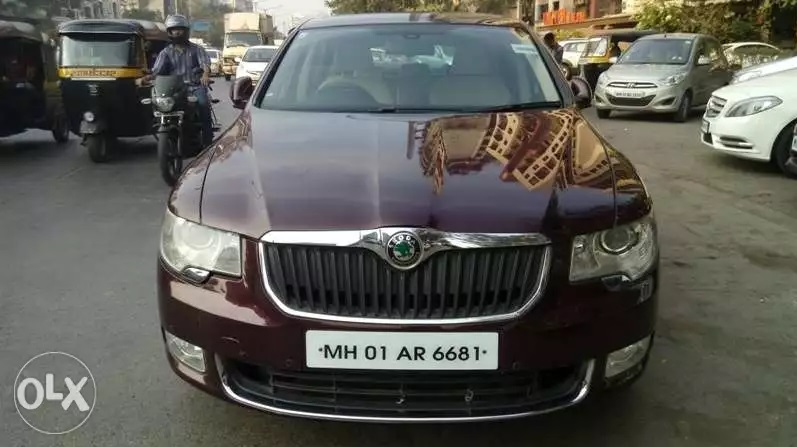licenseplate: (304, 329, 501, 372)
